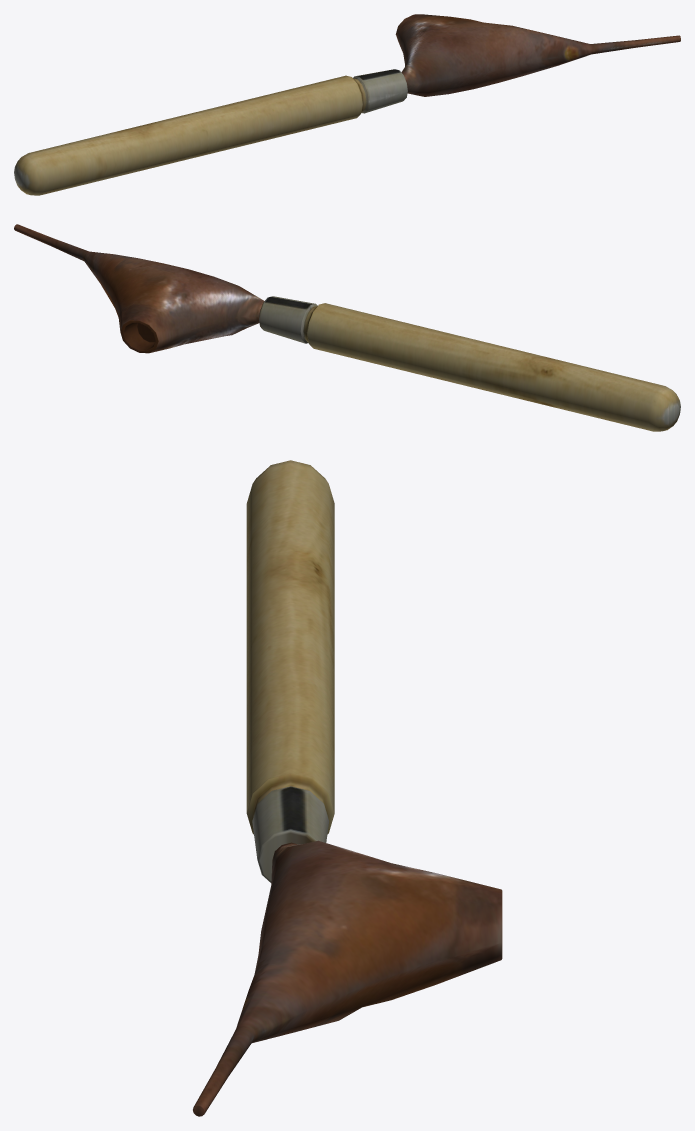
3 renders of one model, top to bottom at view 1: azimuth 30°, elevation 25°; view 2: azimuth 150°, elevation 25°; view 3: azimuth 270°, elevation 25°, orthographic. The views are drawn at different scales.
Visible parts, largest first — view 1: CantingBatik_L; view 2: CantingBatik_L; view 3: CantingBatik_L.
Part boxes in pixels (box(x1,y1,x2,y2)): CantingBatik_L: box(14, 14, 680, 195); CantingBatik_L: box(14, 224, 680, 431); CantingBatik_L: box(193, 460, 502, 1116).
Bounding box in the file's own units: 22.5 × 1.96 × 4.72.
1 material, 1 textured.
